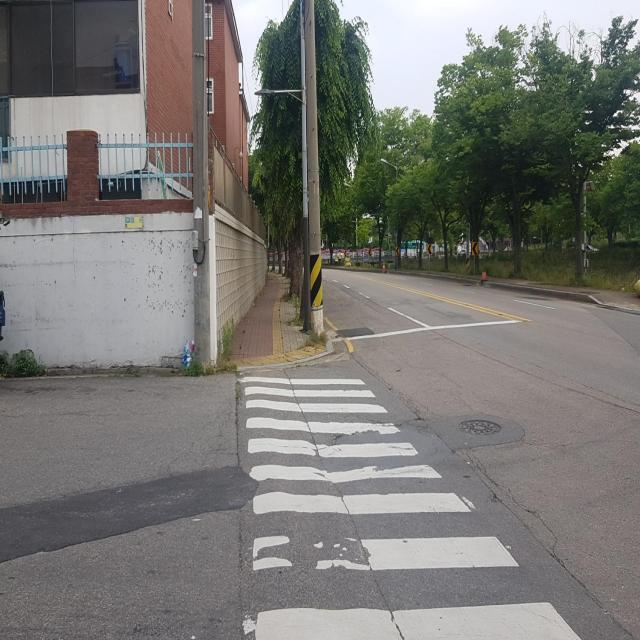횡단보도: (237, 375, 584, 640)
